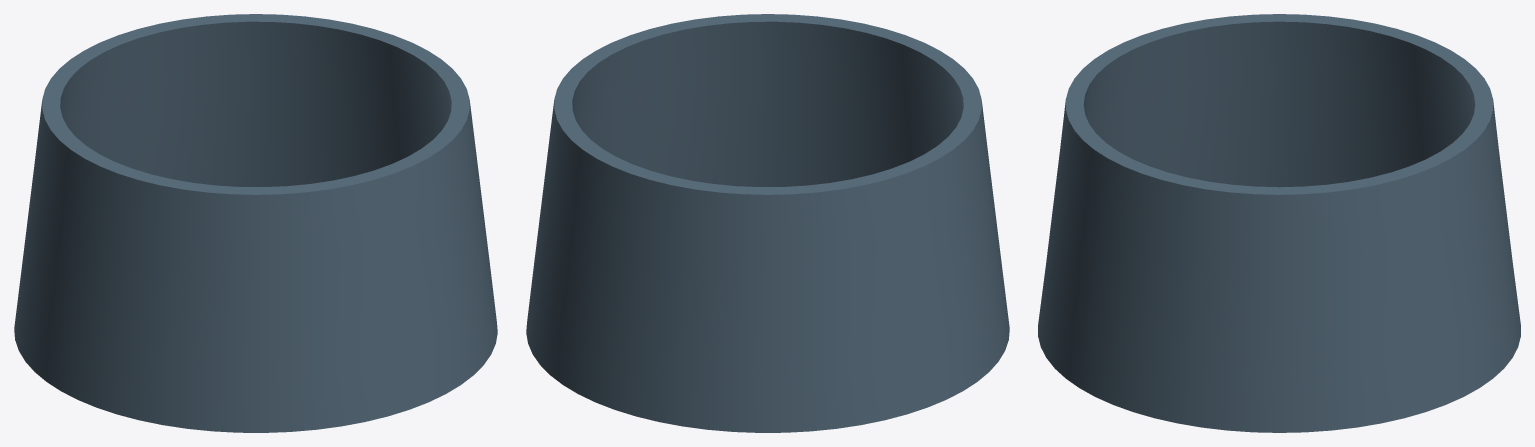
File: perehod-426x16-377x16-L220.glb
The picture shows the model from 3 angles, left to right: view 1: azimuth 30°, elevation 25°; view 2: azimuth 150°, elevation 25°; view 3: azimuth 270°, elevation 25°; orthographic projection.
Visible parts, largest first — view 1: Open CASCADE STEP translator 7.9 77; view 2: Open CASCADE STEP translator 7.9 77; view 3: Open CASCADE STEP translator 7.9 77.
Part boxes in pixels (x1=…): Open CASCADE STEP translator 7.9 77: x1=14, y1=14, x2=497, y2=432; Open CASCADE STEP translator 7.9 77: x1=526, y1=14, x2=1009, y2=432; Open CASCADE STEP translator 7.9 77: x1=1038, y1=14, x2=1520, y2=432.
Bounding box in the file's own units: 426 × 220 × 425.
